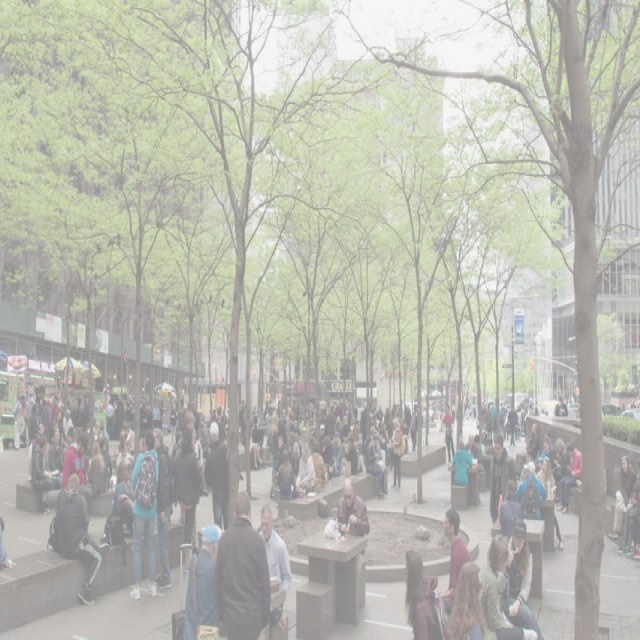pessoa: (215, 489, 272, 639), (52, 473, 104, 608), (476, 528, 536, 639), (127, 427, 161, 602), (496, 516, 544, 639), (11, 382, 85, 454), (258, 504, 294, 639), (182, 524, 222, 639), (401, 542, 448, 638), (112, 392, 206, 437), (435, 504, 471, 614), (84, 370, 113, 502), (302, 396, 392, 438), (152, 427, 174, 590), (174, 422, 202, 544), (448, 561, 488, 639), (203, 418, 230, 532), (605, 452, 637, 542), (535, 457, 565, 552), (262, 394, 302, 462), (488, 431, 516, 526), (554, 437, 584, 516), (616, 471, 640, 562), (514, 458, 548, 522), (336, 477, 370, 536), (30, 434, 54, 516), (318, 436, 363, 479), (466, 432, 492, 505), (364, 428, 388, 501), (498, 477, 524, 540), (112, 434, 136, 502), (62, 432, 88, 494), (102, 501, 134, 551), (388, 413, 407, 495), (514, 421, 540, 478), (550, 436, 570, 506), (295, 440, 316, 500), (451, 437, 474, 487), (276, 448, 296, 501), (517, 398, 541, 442), (442, 402, 456, 464), (479, 400, 506, 432), (0, 513, 15, 570), (391, 400, 412, 438), (206, 404, 230, 436), (311, 438, 327, 484), (505, 403, 520, 448), (192, 434, 210, 462), (408, 402, 418, 452), (552, 393, 570, 418), (252, 414, 264, 450), (238, 398, 247, 446), (376, 437, 388, 467), (540, 433, 552, 458), (454, 402, 462, 439), (388, 436, 396, 470), (462, 401, 478, 418), (26, 452, 35, 480), (402, 436, 411, 460), (438, 403, 445, 433), (506, 400, 512, 430), (450, 402, 456, 426), (250, 404, 257, 416)
